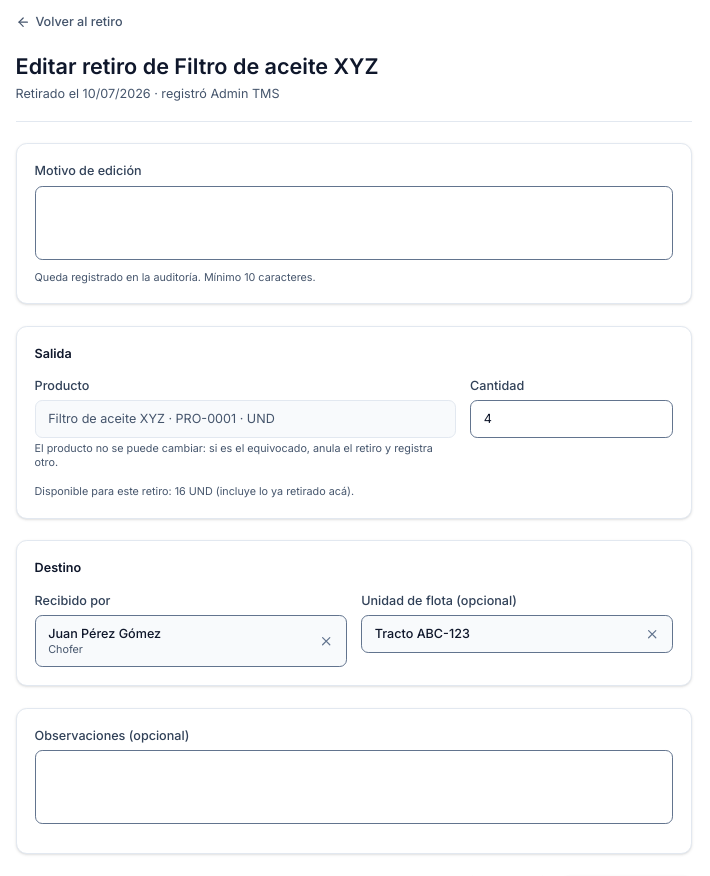
WithdrawalEditPage › exige al menos 10 caracteres en el motivo
Type "corto" into the text box labelled "Motivo de edición".
click(354, 223); type("corto")  # box left=35, top=186, right=673, bottom=260
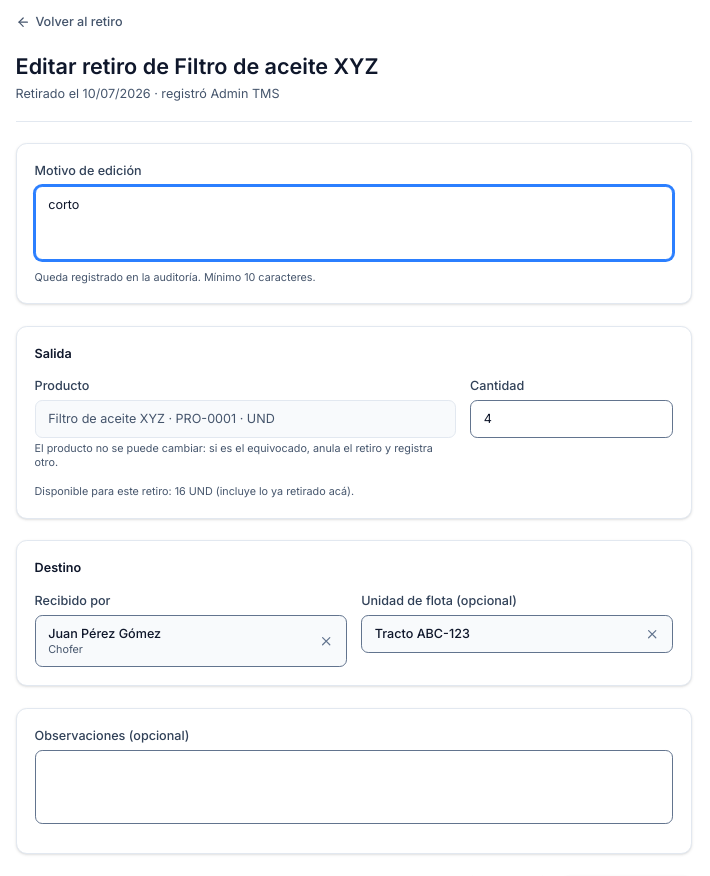
Press Tab
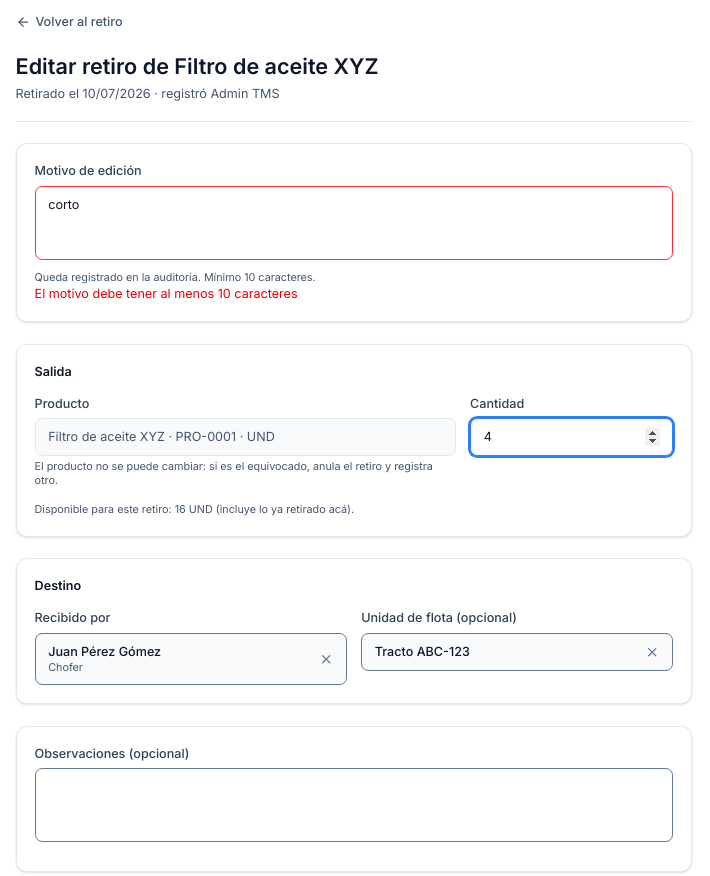
Expected: the text "El motivo debe tener al menos 10 caracteres" is shown, left=35, top=286, right=298, bottom=301
